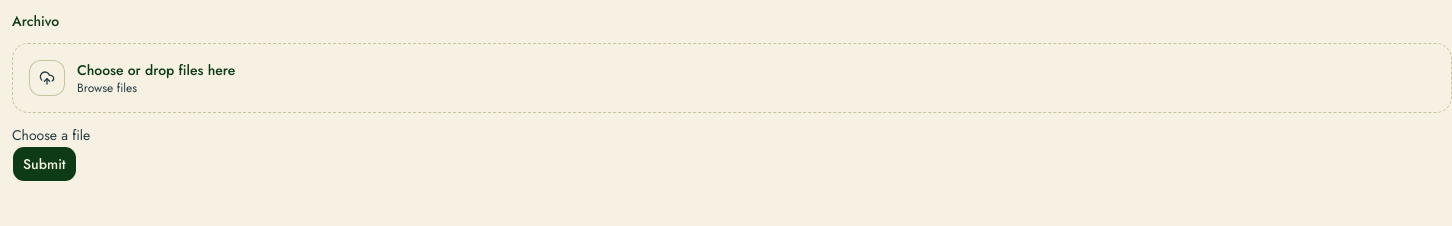
Test: FileField › validation-error
Step 1. Click the button "Submit" → (44, 164), box [12,146,77,182]
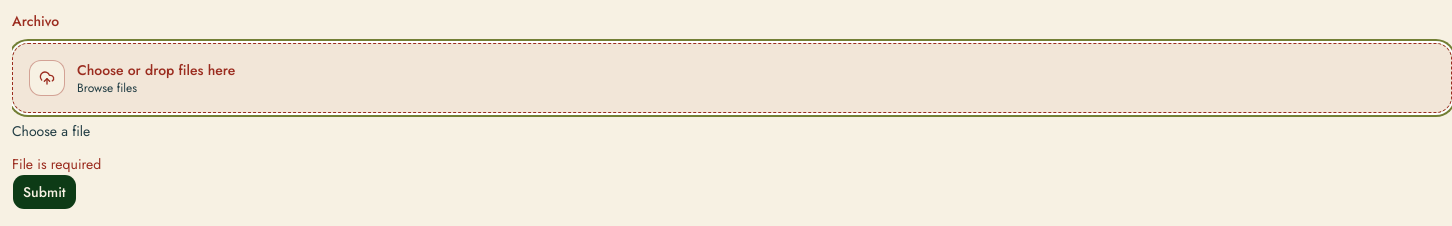
Now the text "File is required" is shown, box [12,154,101,174]
